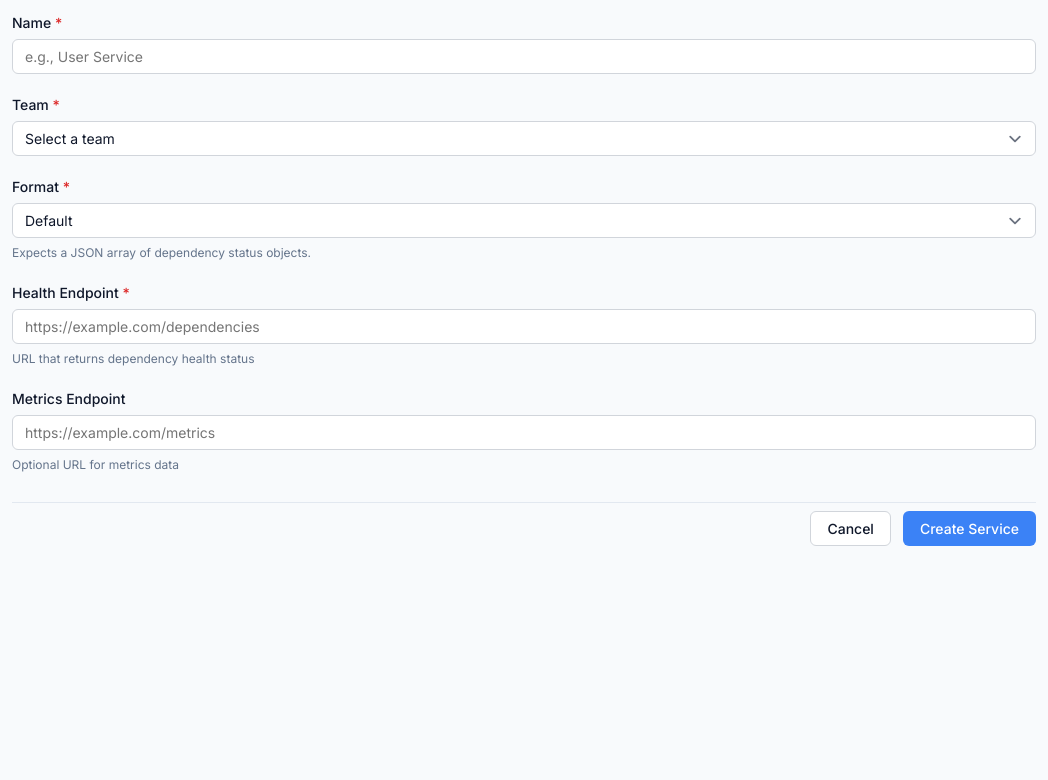
ServiceForm › validates required fields on submit
This screenshot has width=1048, height=780.
Click the button "Create Service" at (969,528), box [903,511,1036,546]
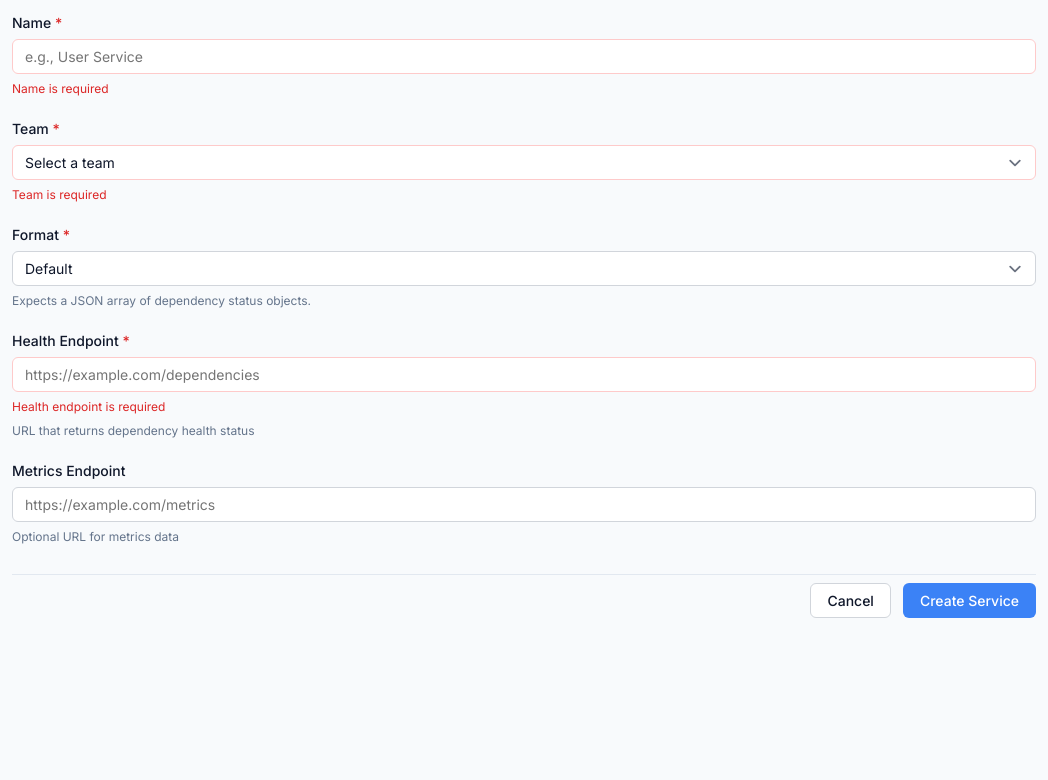
Expected: the text "Name is required" is shown, [12,81,109,96]
Expected: the text "Team is required" is shown, [12,187,106,202]
Expected: the text "Health endpoint is required" is shown, [12,399,166,414]
